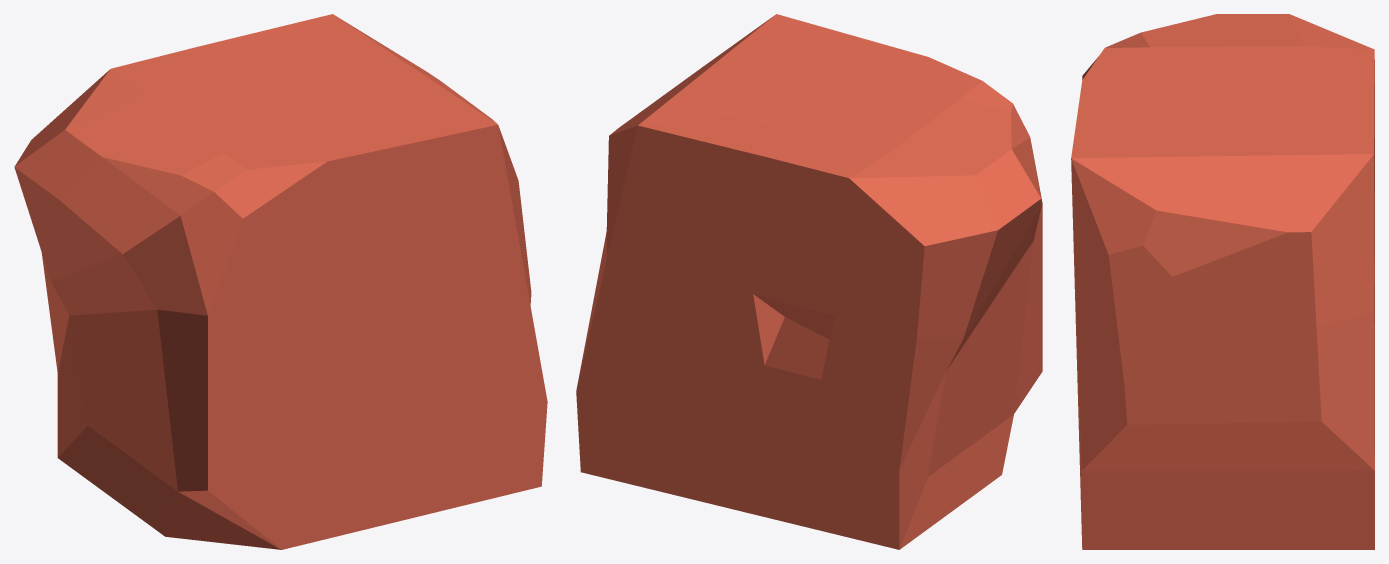
Rendered from Roca1.fbx.
3 views of the same model, side by side, from view 1: azimuth 30°, elevation 25°; view 2: azimuth 150°, elevation 25°; view 3: azimuth 270°, elevation 25° (orthographic). The views are drawn at different scales.
Visible parts, largest first — view 1: roca 3; view 2: roca 3; view 3: roca 3.
Boxes of the visible parts, left/top/right/bottom form: roca 3: left=14, top=14, right=547, bottom=549; roca 3: left=576, top=14, right=1042, bottom=549; roca 3: left=1071, top=14, right=1374, bottom=549.
Size of the model in its own units: 1639 by 1414 by 1057.
